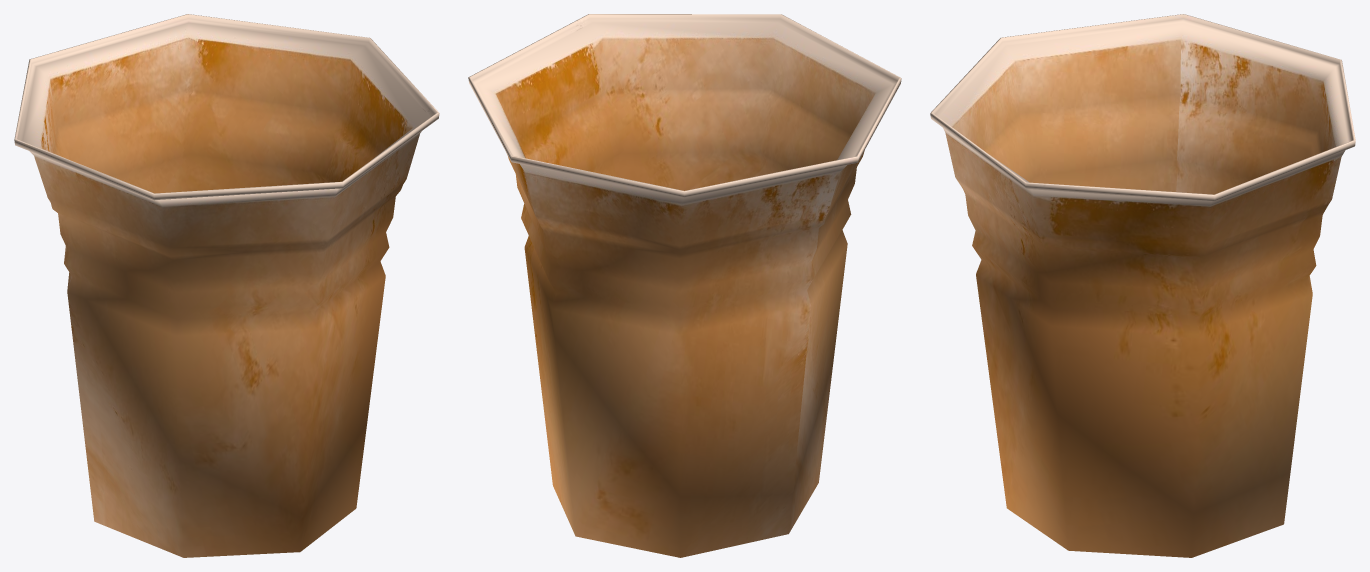
File: 03-gobeletplastique-model.glb
The picture shows the model from 3 angles, left to right: view 1: azimuth 30°, elevation 25°; view 2: azimuth 150°, elevation 25°; view 3: azimuth 270°, elevation 25°; orthographic projection.
Visible parts, largest first — view 1: 03-gobeletplastique-model; view 2: 03-gobeletplastique-model; view 3: 03-gobeletplastique-model.
Part boxes in pixels (x1=…): 03-gobeletplastique-model: x1=14, y1=14, x2=439, y2=557; 03-gobeletplastique-model: x1=468, y1=14, x2=901, y2=557; 03-gobeletplastique-model: x1=930, y1=14, x2=1355, y2=557.
Bounding box in the file's own units: 2.75 × 2.8 × 2.72.
Materials: 1 (1 with a texture image).
